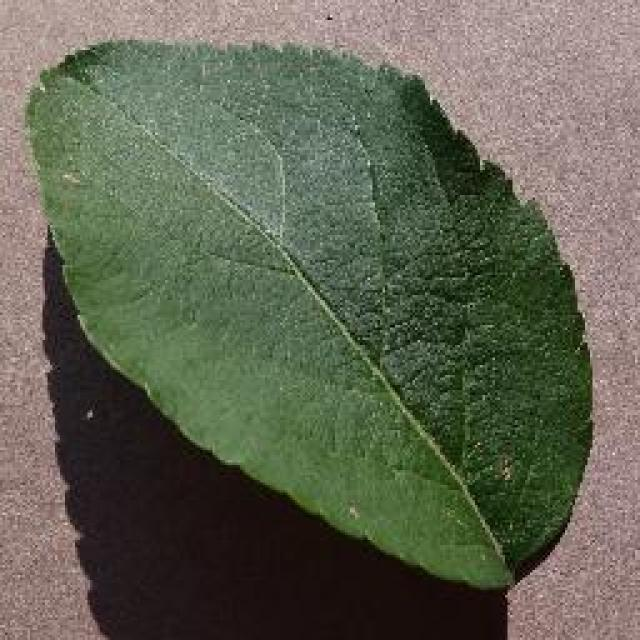apple scab disease: (23, 32, 595, 592)
